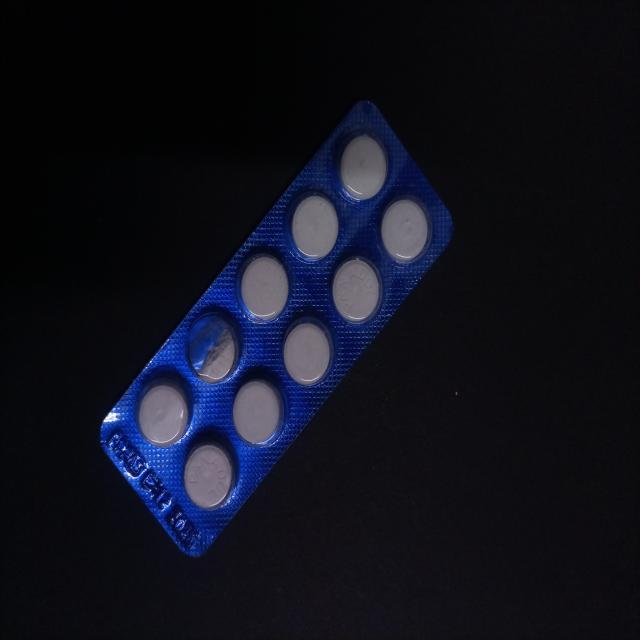defect: (184, 306, 242, 386)
